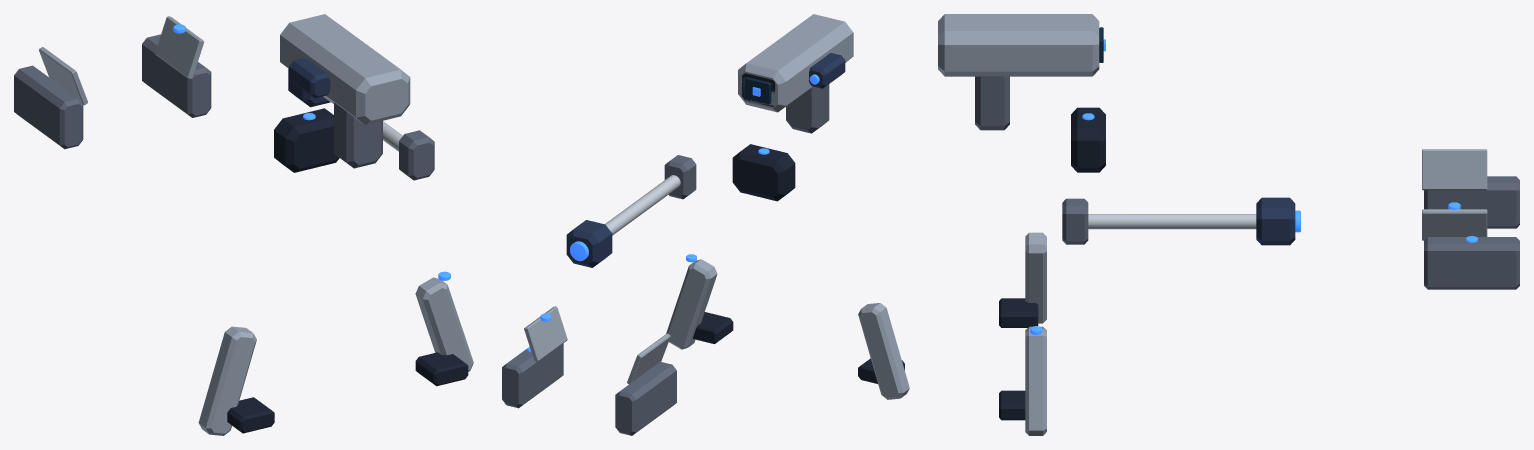
Rendered from tower_lance_range_s8.glb.
3 renders of one model, left to right at view 1: azimuth 30°, elevation 25°; view 2: azimuth 150°, elevation 25°; view 3: azimuth 270°, elevation 25°, orthographic. The views are drawn at different scales.
Parts seen in each view (by area): view 1: lance_optic_long, lance_shroud_ext_r, lance_brace_gusset_r, lance_optic_shade_deep, lance_shroud_ext_l, lance_brace_gusset_l, lance_optic_riser, lance_stab_fin_l, lance_designator_mount, lance_brace_foot_l, lance_brace_foot_r, lance_rangefinder (+2 smaller); view 2: lance_optic_long, lance_shroud_ext_r, lance_brace_gusset_r, lance_optic_shade_deep, lance_brace_gusset_l, lance_shroud_ext_l, lance_optic_riser, lance_designator_head, lance_stab_fin_l, lance_designator_boom, lance_designator_mount, lance_brace_foot_l (+3 smaller); view 3: lance_optic_long, lance_shroud_ext_l, lance_shroud_ext_r, lance_stab_fin_r, lance_designator_boom, lance_brace_gusset_l, lance_optic_shade_deep, lance_optic_riser, lance_designator_head, lance_stab_fin_l, lance_brace_gusset_r, lance_designator_mount (+2 smaller).
Boxes of the visible parts, x1,y1,x2,y2 form: lance_optic_long: [280, 14, 410, 124]; lance_shroud_ext_r: [14, 65, 83, 149]; lance_brace_gusset_r: [198, 326, 256, 435]; lance_optic_shade_deep: [274, 108, 339, 172]; lance_shroud_ext_l: [142, 34, 211, 117]; lance_brace_gusset_l: [415, 277, 473, 371]; lance_optic_riser: [334, 102, 382, 168]; lance_stab_fin_l: [155, 16, 203, 78]; lance_designator_mount: [399, 130, 434, 180]; lance_brace_foot_l: [415, 352, 468, 386]; lance_brace_foot_r: [227, 397, 274, 433]; lance_rangefinder: [289, 57, 330, 98]; lance_optic_long: [738, 14, 853, 112]; lance_shroud_ext_r: [615, 361, 676, 435]; lance_brace_gusset_r: [858, 303, 909, 399]; lance_optic_shade_deep: [732, 144, 795, 201]; lance_brace_gusset_l: [666, 259, 717, 349]; lance_shroud_ext_l: [502, 343, 563, 408]; lance_optic_riser: [786, 84, 829, 133]; lance_designator_head: [566, 220, 612, 267]; lance_stab_fin_l: [524, 306, 567, 361]; lance_designator_boom: [605, 175, 680, 235]; lance_designator_mount: [664, 155, 696, 199]; lance_brace_foot_l: [693, 312, 733, 343]; lance_optic_long: [938, 14, 1099, 76]; lance_shroud_ext_l: [1424, 237, 1519, 289]; lance_shroud_ext_r: [1424, 176, 1519, 228]; lance_stab_fin_r: [1422, 149, 1487, 190]; lance_designator_boom: [1088, 214, 1256, 229]; lance_brace_gusset_l: [1025, 326, 1046, 435]; lance_optic_shade_deep: [1071, 107, 1105, 172]; lance_optic_riser: [975, 76, 1009, 130]; lance_designator_head: [1256, 197, 1295, 245]; lance_stab_fin_l: [1422, 209, 1487, 240]; lance_brace_gusset_r: [1025, 232, 1046, 323]; lance_designator_mount: [1062, 198, 1088, 244].
Size of the model in its own units: 1.38 by 1.8 by 2.67.
